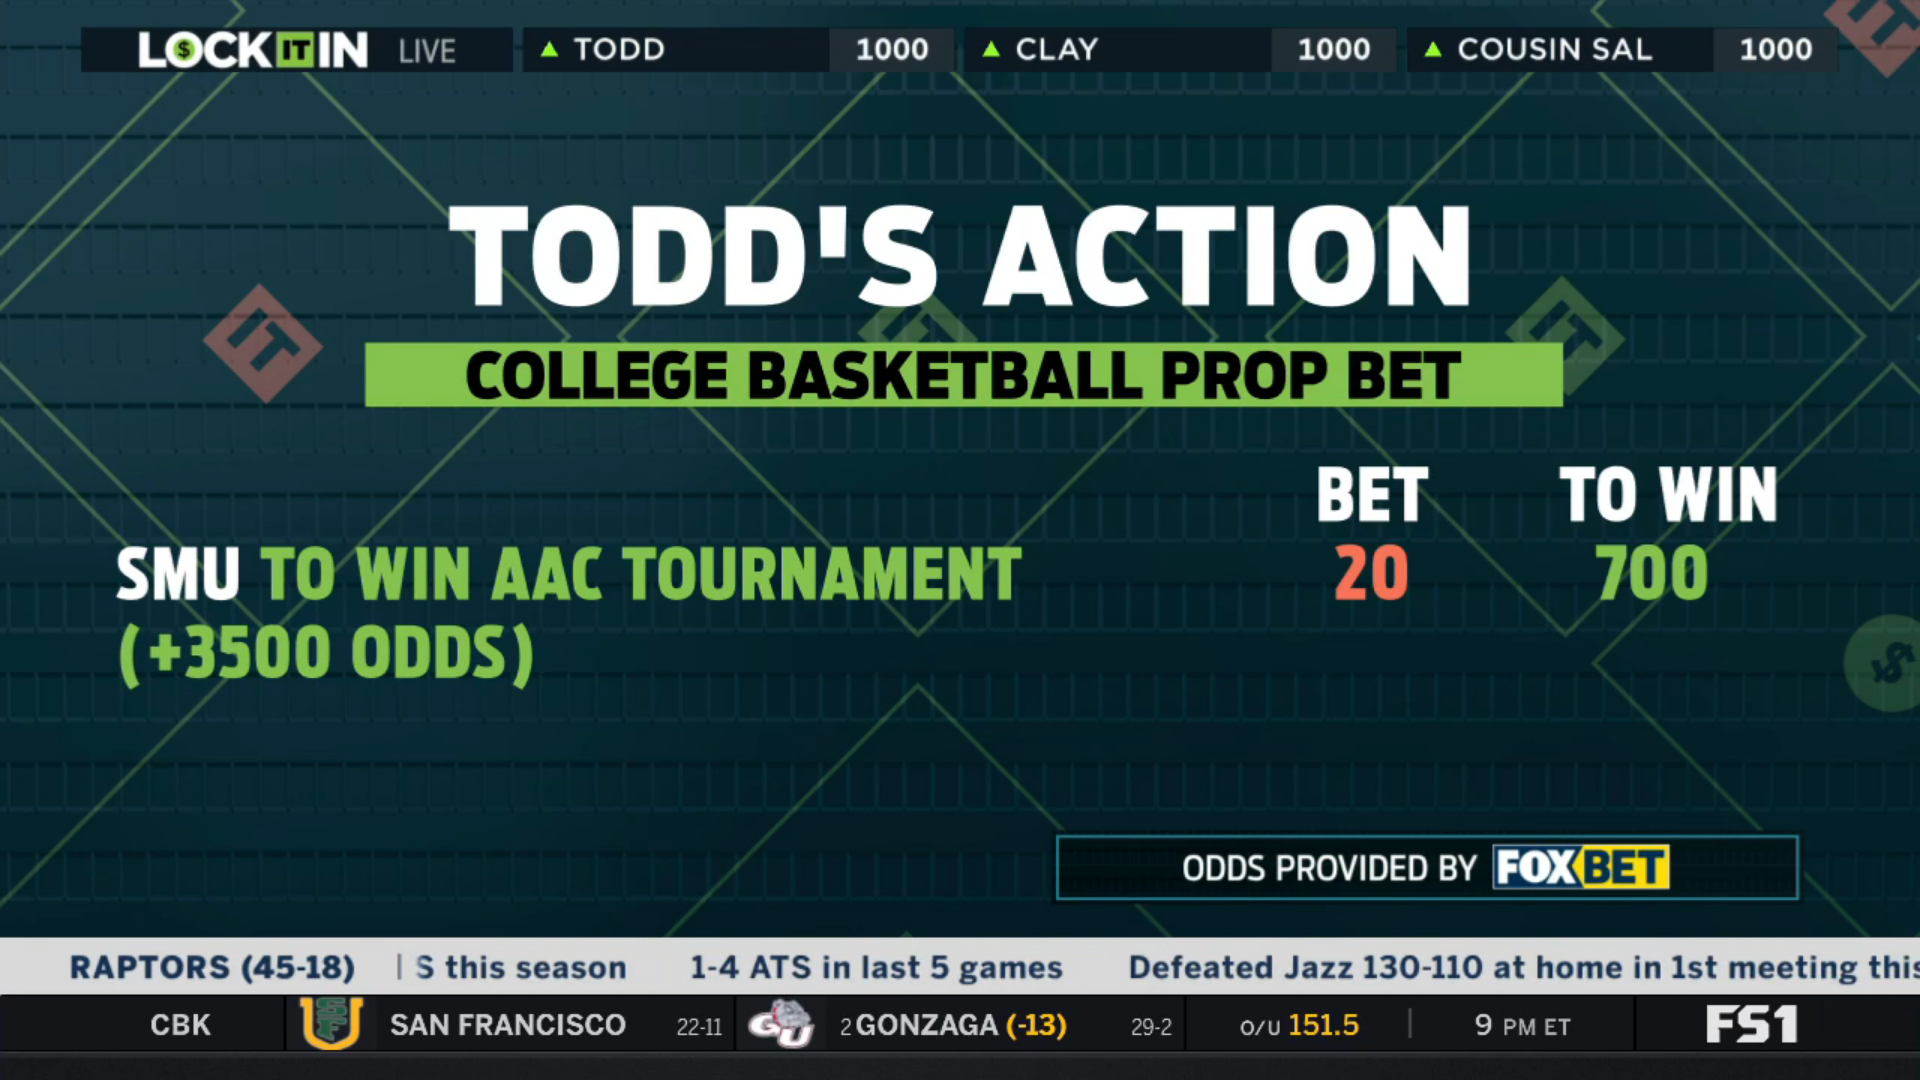Bet: (107, 531, 1036, 702)
Bet Amount: (1305, 451, 1440, 613)
Subtitle: (355, 334, 1572, 417)
Title: (433, 193, 1485, 320)
To Win: (1545, 452, 1789, 613)
Top Bar: (73, 17, 1847, 80)
